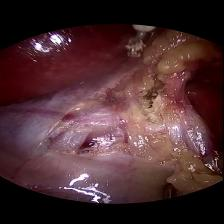Hook: (123, 24, 158, 56)
